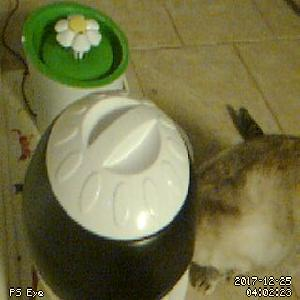cat: (188, 107, 300, 296)
fountain: (21, 3, 129, 88)
